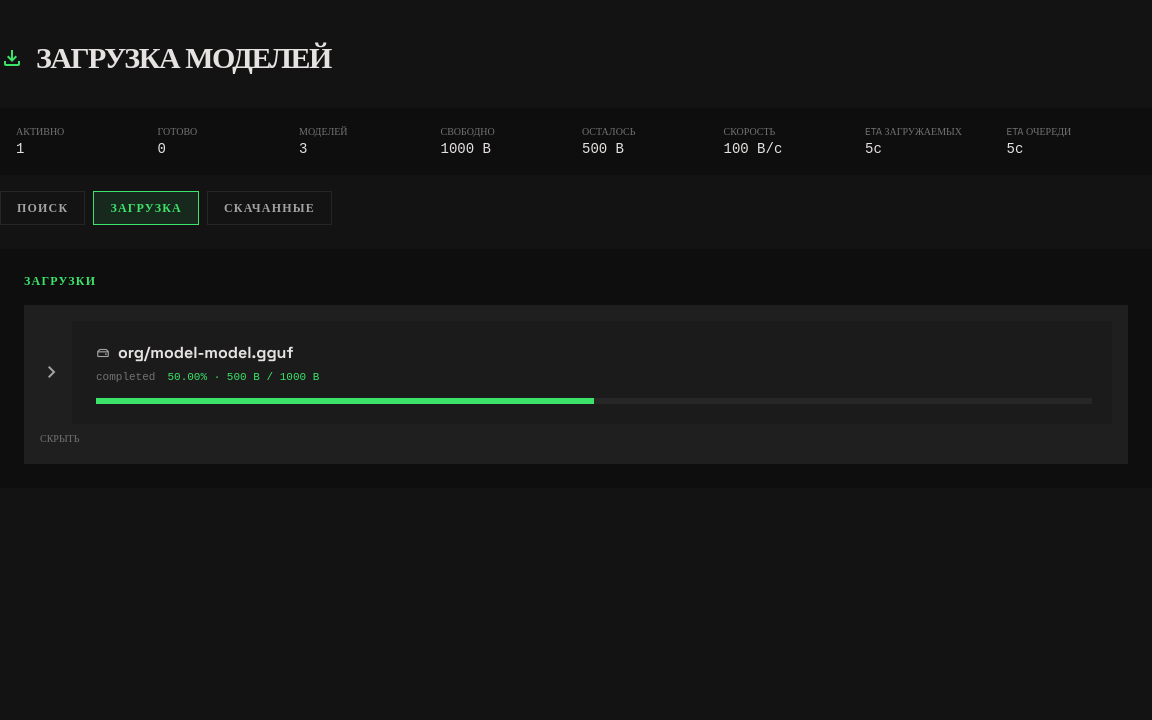
Scenario: ModelDownloadsPage › недоступная сверка не гасит карточку и не включает «Обновить»
Click the button with test id "download-row-toggle".
click(592, 372)  # box [72,321,1112,424]
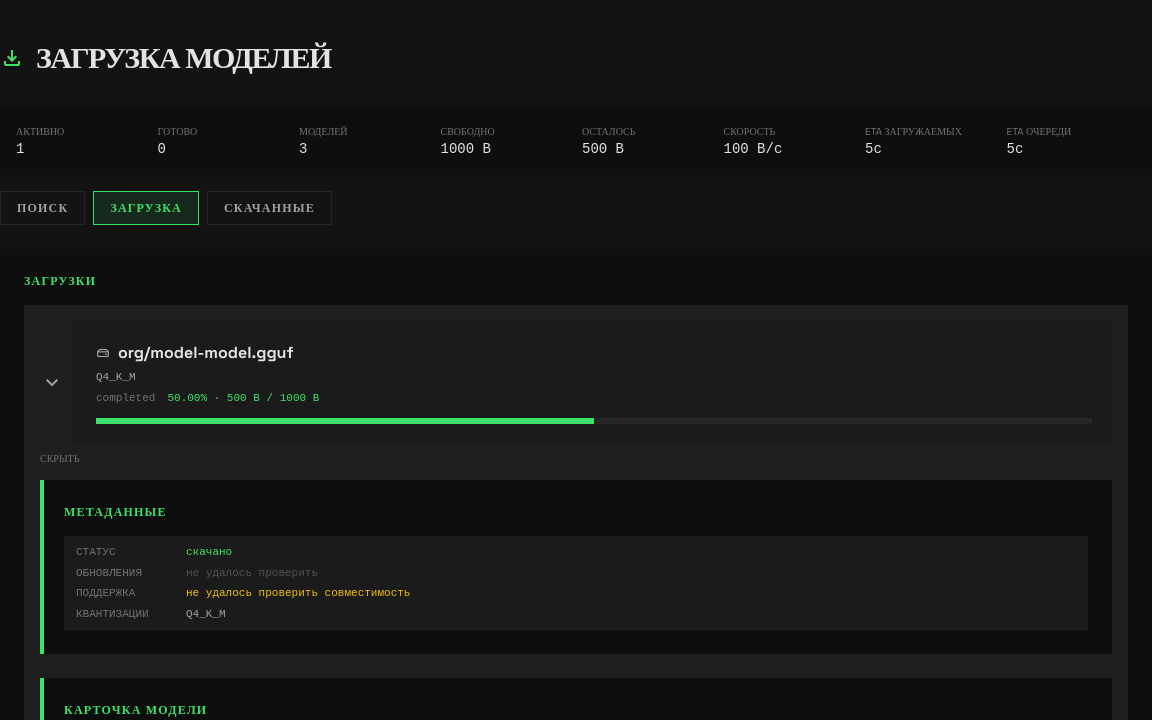
Now the text with test id "meta-updates" reads "не удалось проверить", box [186,566,318,578]
